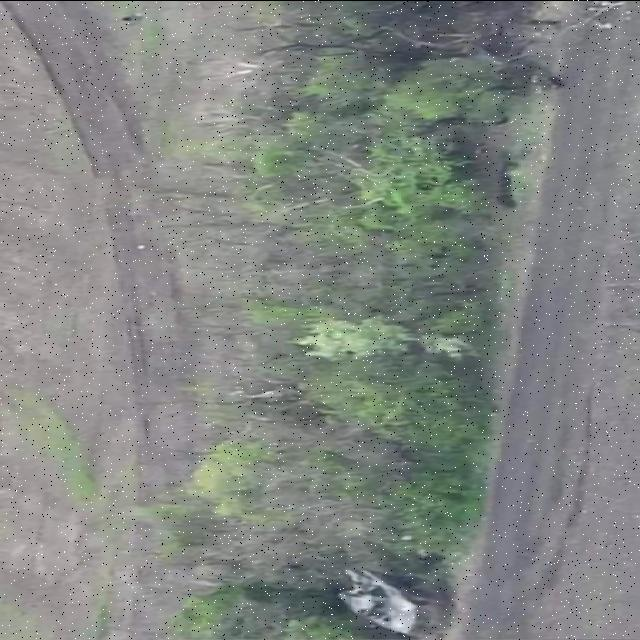APC-IFV: (338, 564, 449, 638)
